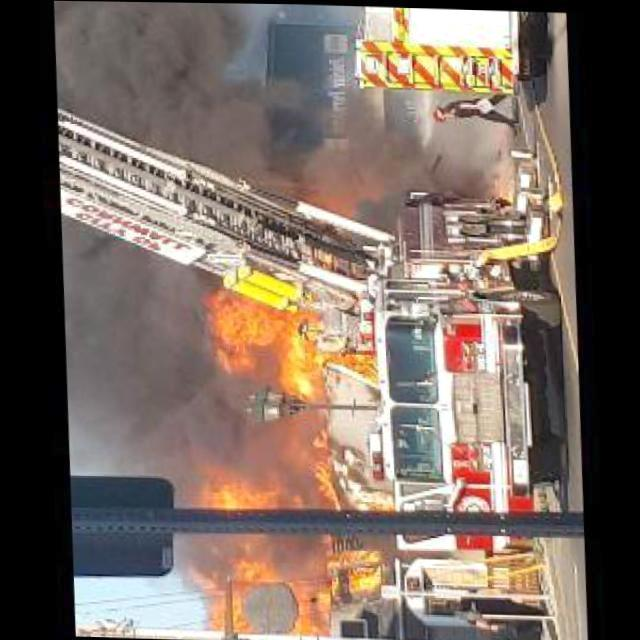fire: (170, 264, 378, 640), (273, 98, 507, 205)
